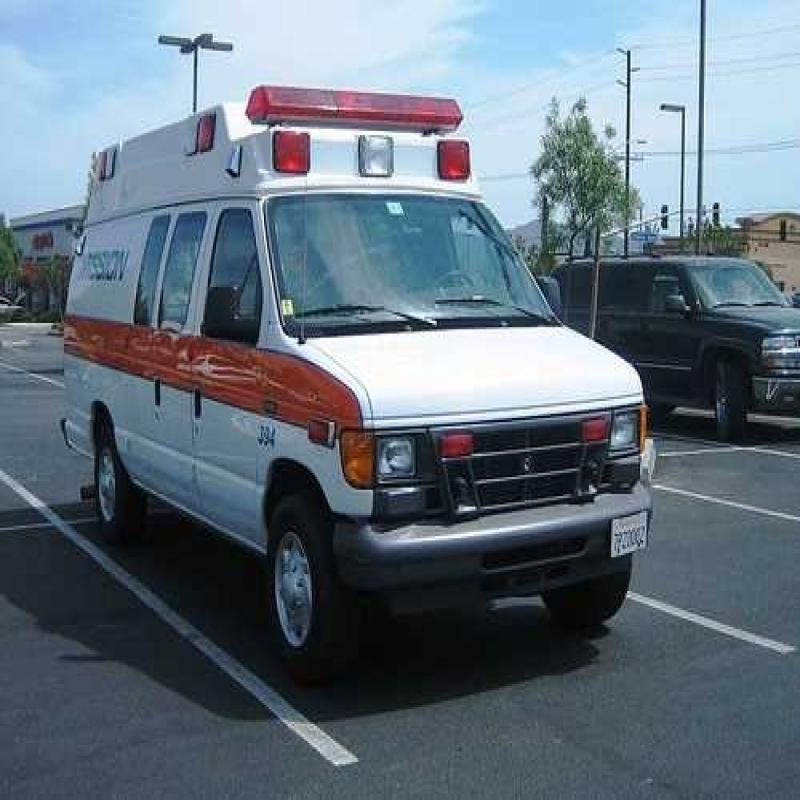AmbulanceSiren: (247, 55, 475, 212)
